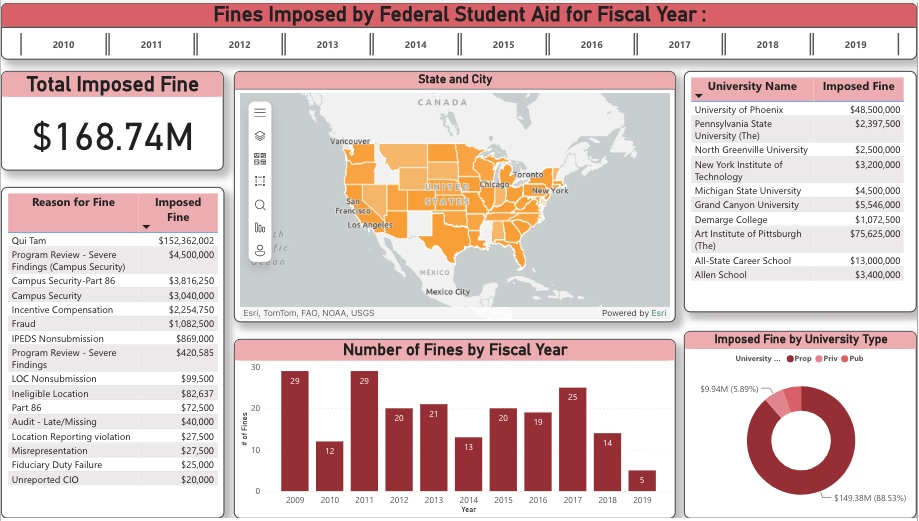

What the dashboard file says about the page in this screenshot:
{"tool":"powerbi","page":{"name":"Dashboard","canvas":[1280,720],"ordinal":0},"visuals":[{"type":"tableEx","fields":{"Values":["FSA Fines.Referral Reason","Sum(FSA Fines.Imposed FineAmount)"]},"box":[0,257.3,312.3,462.8],"z":0},{"type":"actionButton","box":[0,0,100,40],"z":1000},{"type":"columnChart","title":"Number of Fines by Fiscal Year","fields":{"Y":["CountNonNull(FSA Fines.OPEID)"],"Category":["FSA Fines.Imposed Fine Date.Variation.Date Hierarchy.Year","FSA Fines.Imposed Fine Date.Variation.Date Hierarchy.Quarter","FSA Fines.Imposed Fine Date.Variation.Date Hierarchy.Month","FSA Fines.Imposed Fine Date.Variation.Date Hierarchy.Day"]},"box":[325.3,469.3,616.5,250.8],"z":2000},{"type":"card","title":"Total Imposed Fine","fields":{"Values":["Sum(FSA Fines.Imposed FineAmount)"]},"box":[0,95.5,310.7,139.2],"z":3000},{"type":"esriVisual","fields":{"Location":["FSA Fines.State"],"Color":["FSA Fines.City"]},"box":[325.3,95.5,616.5,351.2],"z":4000},{"type":"slicer","title":"Fines Imposed by Federal Student Aid for Fiscal Year :","fields":{"Values":["FSA Fines.FSA Fiscal Year"]},"box":[0,0,1280,79.3],"z":5000},{"type":"tableEx","fields":{"Values":["FSA Fines.School","Sum(FSA Fines.Imposed FineAmount)"]},"box":[954.7,95.5,325.3,336.6],"z":6000},{"type":"donutChart","title":"Imposed Fine by University Type","fields":{"Category":["FSA Fines.School Type"],"Y":["Sum(FSA Fines.Imposed FineAmount)"]},"box":[954.7,458,325.3,262.1],"z":7000}]}

Visuals, with their boxes in screenshot pixels (x1, y1, x2, y2), scaled from the page's 1280x720 canvas onto the 919x521 screenshot:
tableEx - FSA Fines.Referral Reason x Sum(FSA Fines.Imposed FineAmount): bbox=[0, 186, 224, 520]
actionButton: bbox=[0, 0, 72, 29]
"Number of Fines by Fiscal Year" columnChart: bbox=[234, 340, 676, 520]
"Total Imposed Fine" card: bbox=[0, 69, 223, 170]
esriVisual - FSA Fines.State x FSA Fines.City: bbox=[234, 69, 676, 323]
"Fines Imposed by Federal Student Aid for Fiscal Year :" slicer: bbox=[0, 0, 918, 57]
tableEx - FSA Fines.School x Sum(FSA Fines.Imposed FineAmount): bbox=[685, 69, 918, 313]
"Imposed Fine by University Type" donutChart: bbox=[685, 331, 918, 520]
